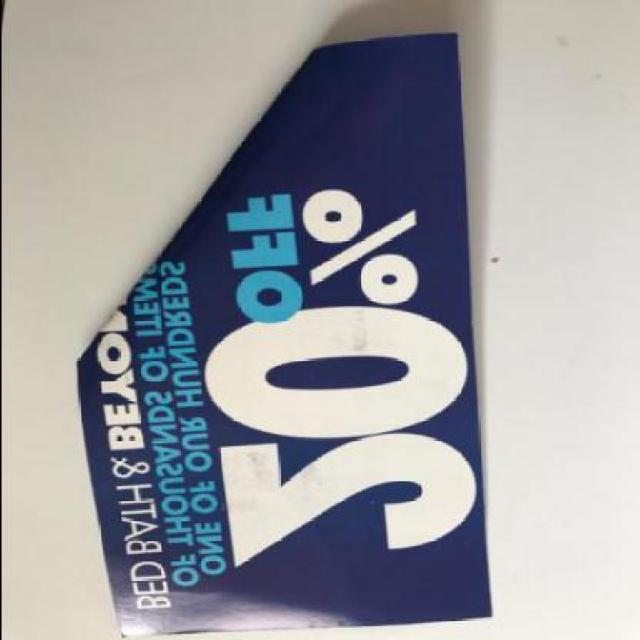paper: (77, 34, 492, 637)
